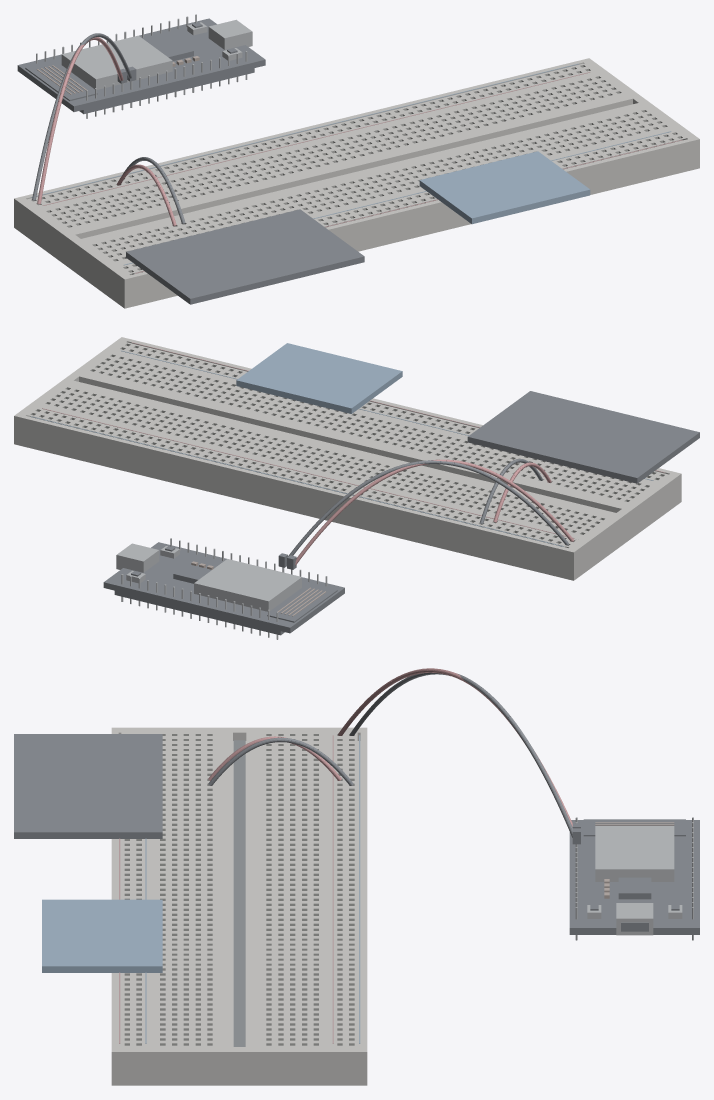
The model's file is step-7.glb.
The picture shows the model from 3 angles, top to bottom: view 1: azimuth 30°, elevation 25°; view 2: azimuth 150°, elevation 25°; view 3: azimuth 270°, elevation 25°; orthographic projection. The views are drawn at different scales.
Parts seen in each view (by area): view 1: breadboard__mesh, uno__mesh, matrix__mesh, joystick__mesh, power_supply__mesh, ground_supply__mesh; view 2: breadboard__mesh, uno__mesh, matrix__mesh, joystick__mesh, ground_supply__mesh, power_supply__mesh; view 3: breadboard__mesh, matrix__mesh, uno__mesh, joystick__mesh, ground_supply__mesh, power_supply__mesh, matrix_ground__mesh.
Part boxes in pixels (box(x1,y1,x2,y2)): breadboard__mesh: box(14, 58, 699, 308); uno__mesh: box(17, 14, 265, 118); matrix__mesh: box(126, 209, 364, 304); joystick__mesh: box(419, 151, 590, 224); power_supply__mesh: box(37, 37, 127, 204); ground_supply__mesh: box(32, 33, 136, 200); breadboard__mesh: box(14, 337, 681, 580); uno__mesh: box(103, 538, 344, 639); matrix__mesh: box(467, 391, 699, 483); joystick__mesh: box(236, 343, 402, 413); ground_supply__mesh: box(278, 460, 568, 567); power_supply__mesh: box(287, 459, 573, 569); breadboard__mesh: box(111, 727, 367, 1085); matrix__mesh: box(14, 734, 162, 838); uno__mesh: box(569, 817, 699, 940); joystick__mesh: box(42, 899, 162, 972); ground_supply__mesh: box(350, 672, 580, 844); power_supply__mesh: box(338, 668, 580, 828); matrix_ground__mesh: box(208, 737, 353, 785).
Bounding box in the file's own units: 0.165 × 0.0348 × 0.1475.
